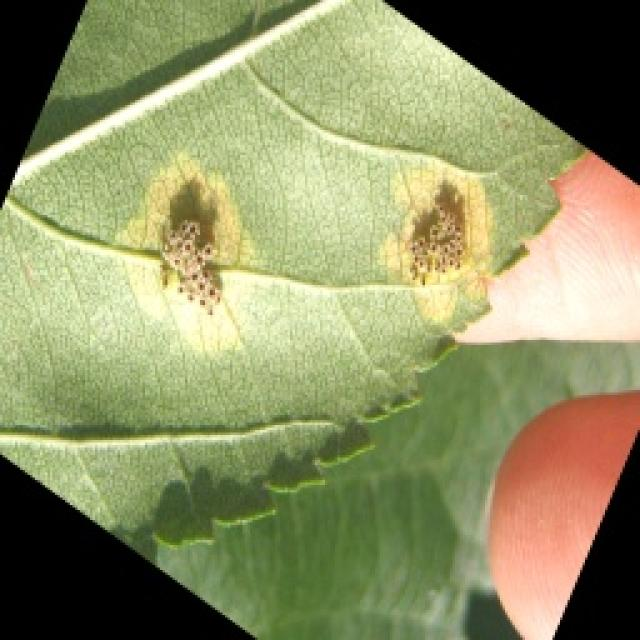Gymnosporangium_Rusts: (108, 129, 539, 354)
